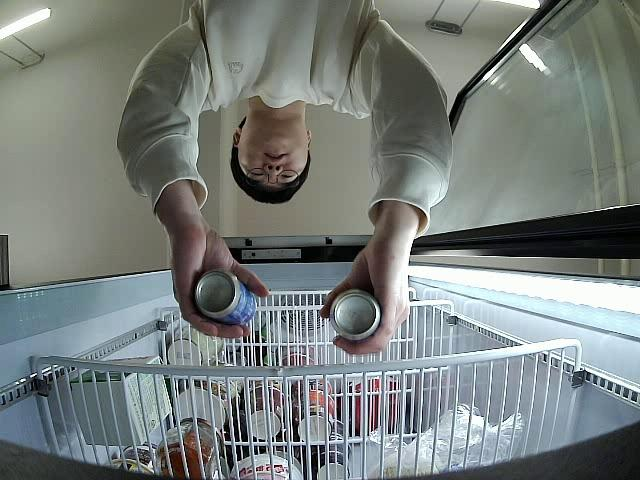00_hand: (171, 224, 271, 339), (319, 246, 411, 354)
15_letsbe: (193, 270, 257, 327), (329, 289, 382, 341)
